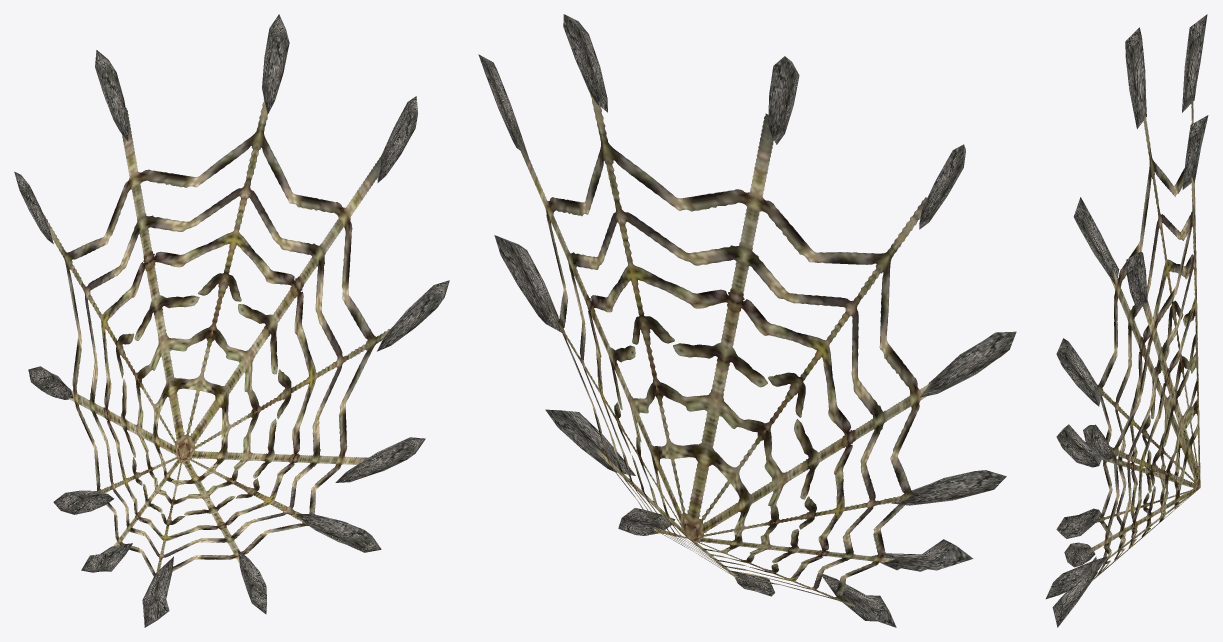
The model's file is eff_net-da00cf8d.glb.
3 views of the same model, side by side, from view 1: azimuth 30°, elevation 25°; view 2: azimuth 150°, elevation 25°; view 3: azimuth 270°, elevation 25° (orthographic). The views are drawn at different scales.
Visible parts, largest first — view 1: Eff_net; view 2: Eff_net; view 3: Eff_net.
Part boxes in pixels (left/top/right/bottom): Eff_net: left=14, top=14, right=449, bottom=627; Eff_net: left=478, top=14, right=1016, bottom=627; Eff_net: left=1046, top=14, right=1208, bottom=627.
Size of the model in its own units: 2.71 by 3.2 by 0.8751.
1 material, 1 textured.
